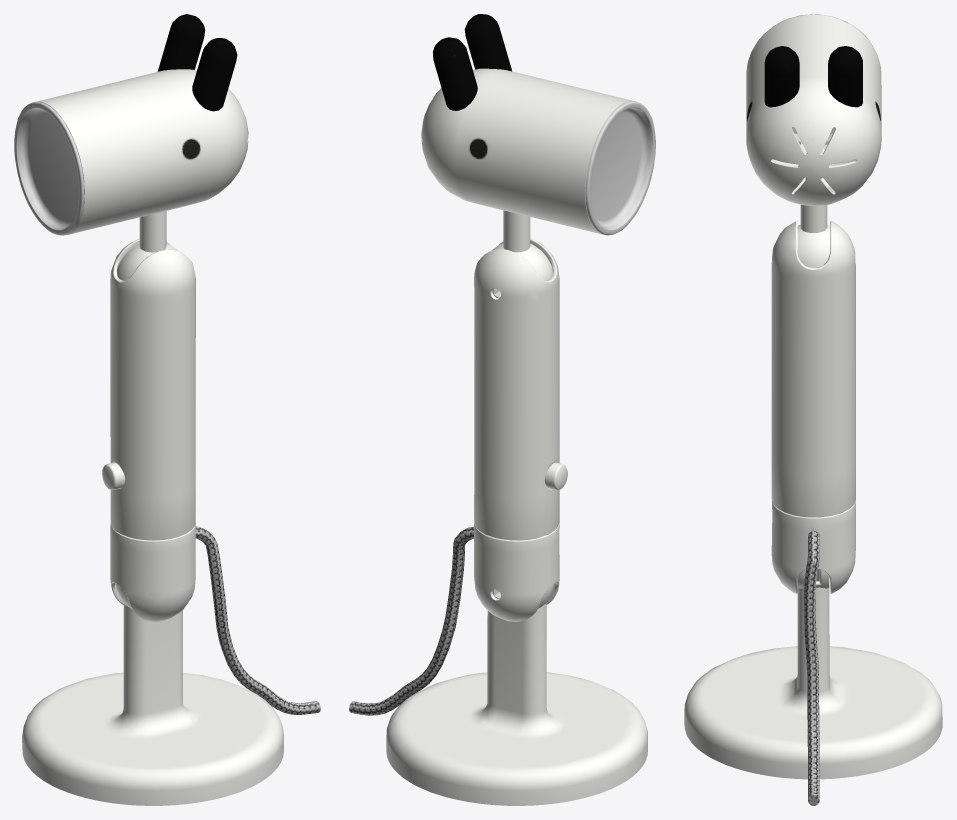
Rendered from krux_lampa_biurkowa_led_70325468.glb.
The picture shows the model from 3 angles, left to right: view 1: azimuth 30°, elevation 25°; view 2: azimuth 150°, elevation 25°; view 3: azimuth 270°, elevation 25°; orthographic projection.
Parts seen in each view (by area): view 1: krux_lampa_biurkowa_led_70325468; view 2: krux_lampa_biurkowa_led_70325468; view 3: krux_lampa_biurkowa_led_70325468.
Part boxes in pixels (x1,y1,x2,y2): krux_lampa_biurkowa_led_70325468: (14, 14, 320, 805); krux_lampa_biurkowa_led_70325468: (349, 14, 655, 805); krux_lampa_biurkowa_led_70325468: (684, 14, 942, 805).
Bounding box in the file's own units: 0.1548 × 0.379 × 0.1261.
Materials: 1 (1 with a texture image).
